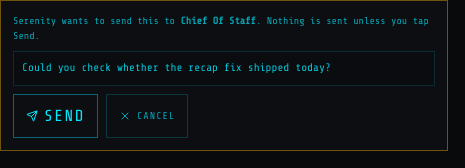
BotDraftConfirmCard › cancels without sending
The image size is (465, 168).
Click the button "Cancel" at (147, 116), box [106, 94, 188, 138]
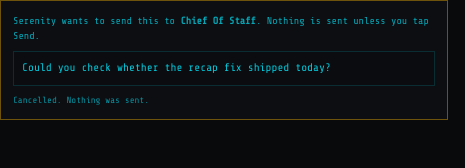
Result: the text "Cancelled. Nothing was sent." is shown at [13, 94, 149, 104]
